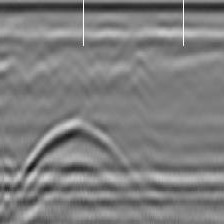Utility: (22, 115, 134, 199)
